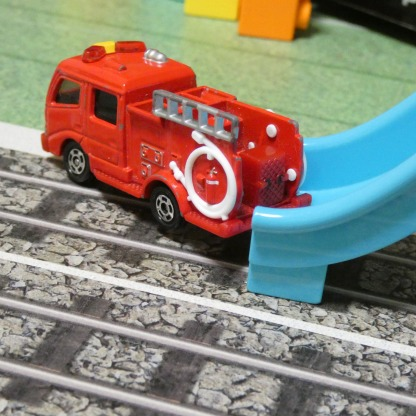car: (48, 36, 305, 235)
